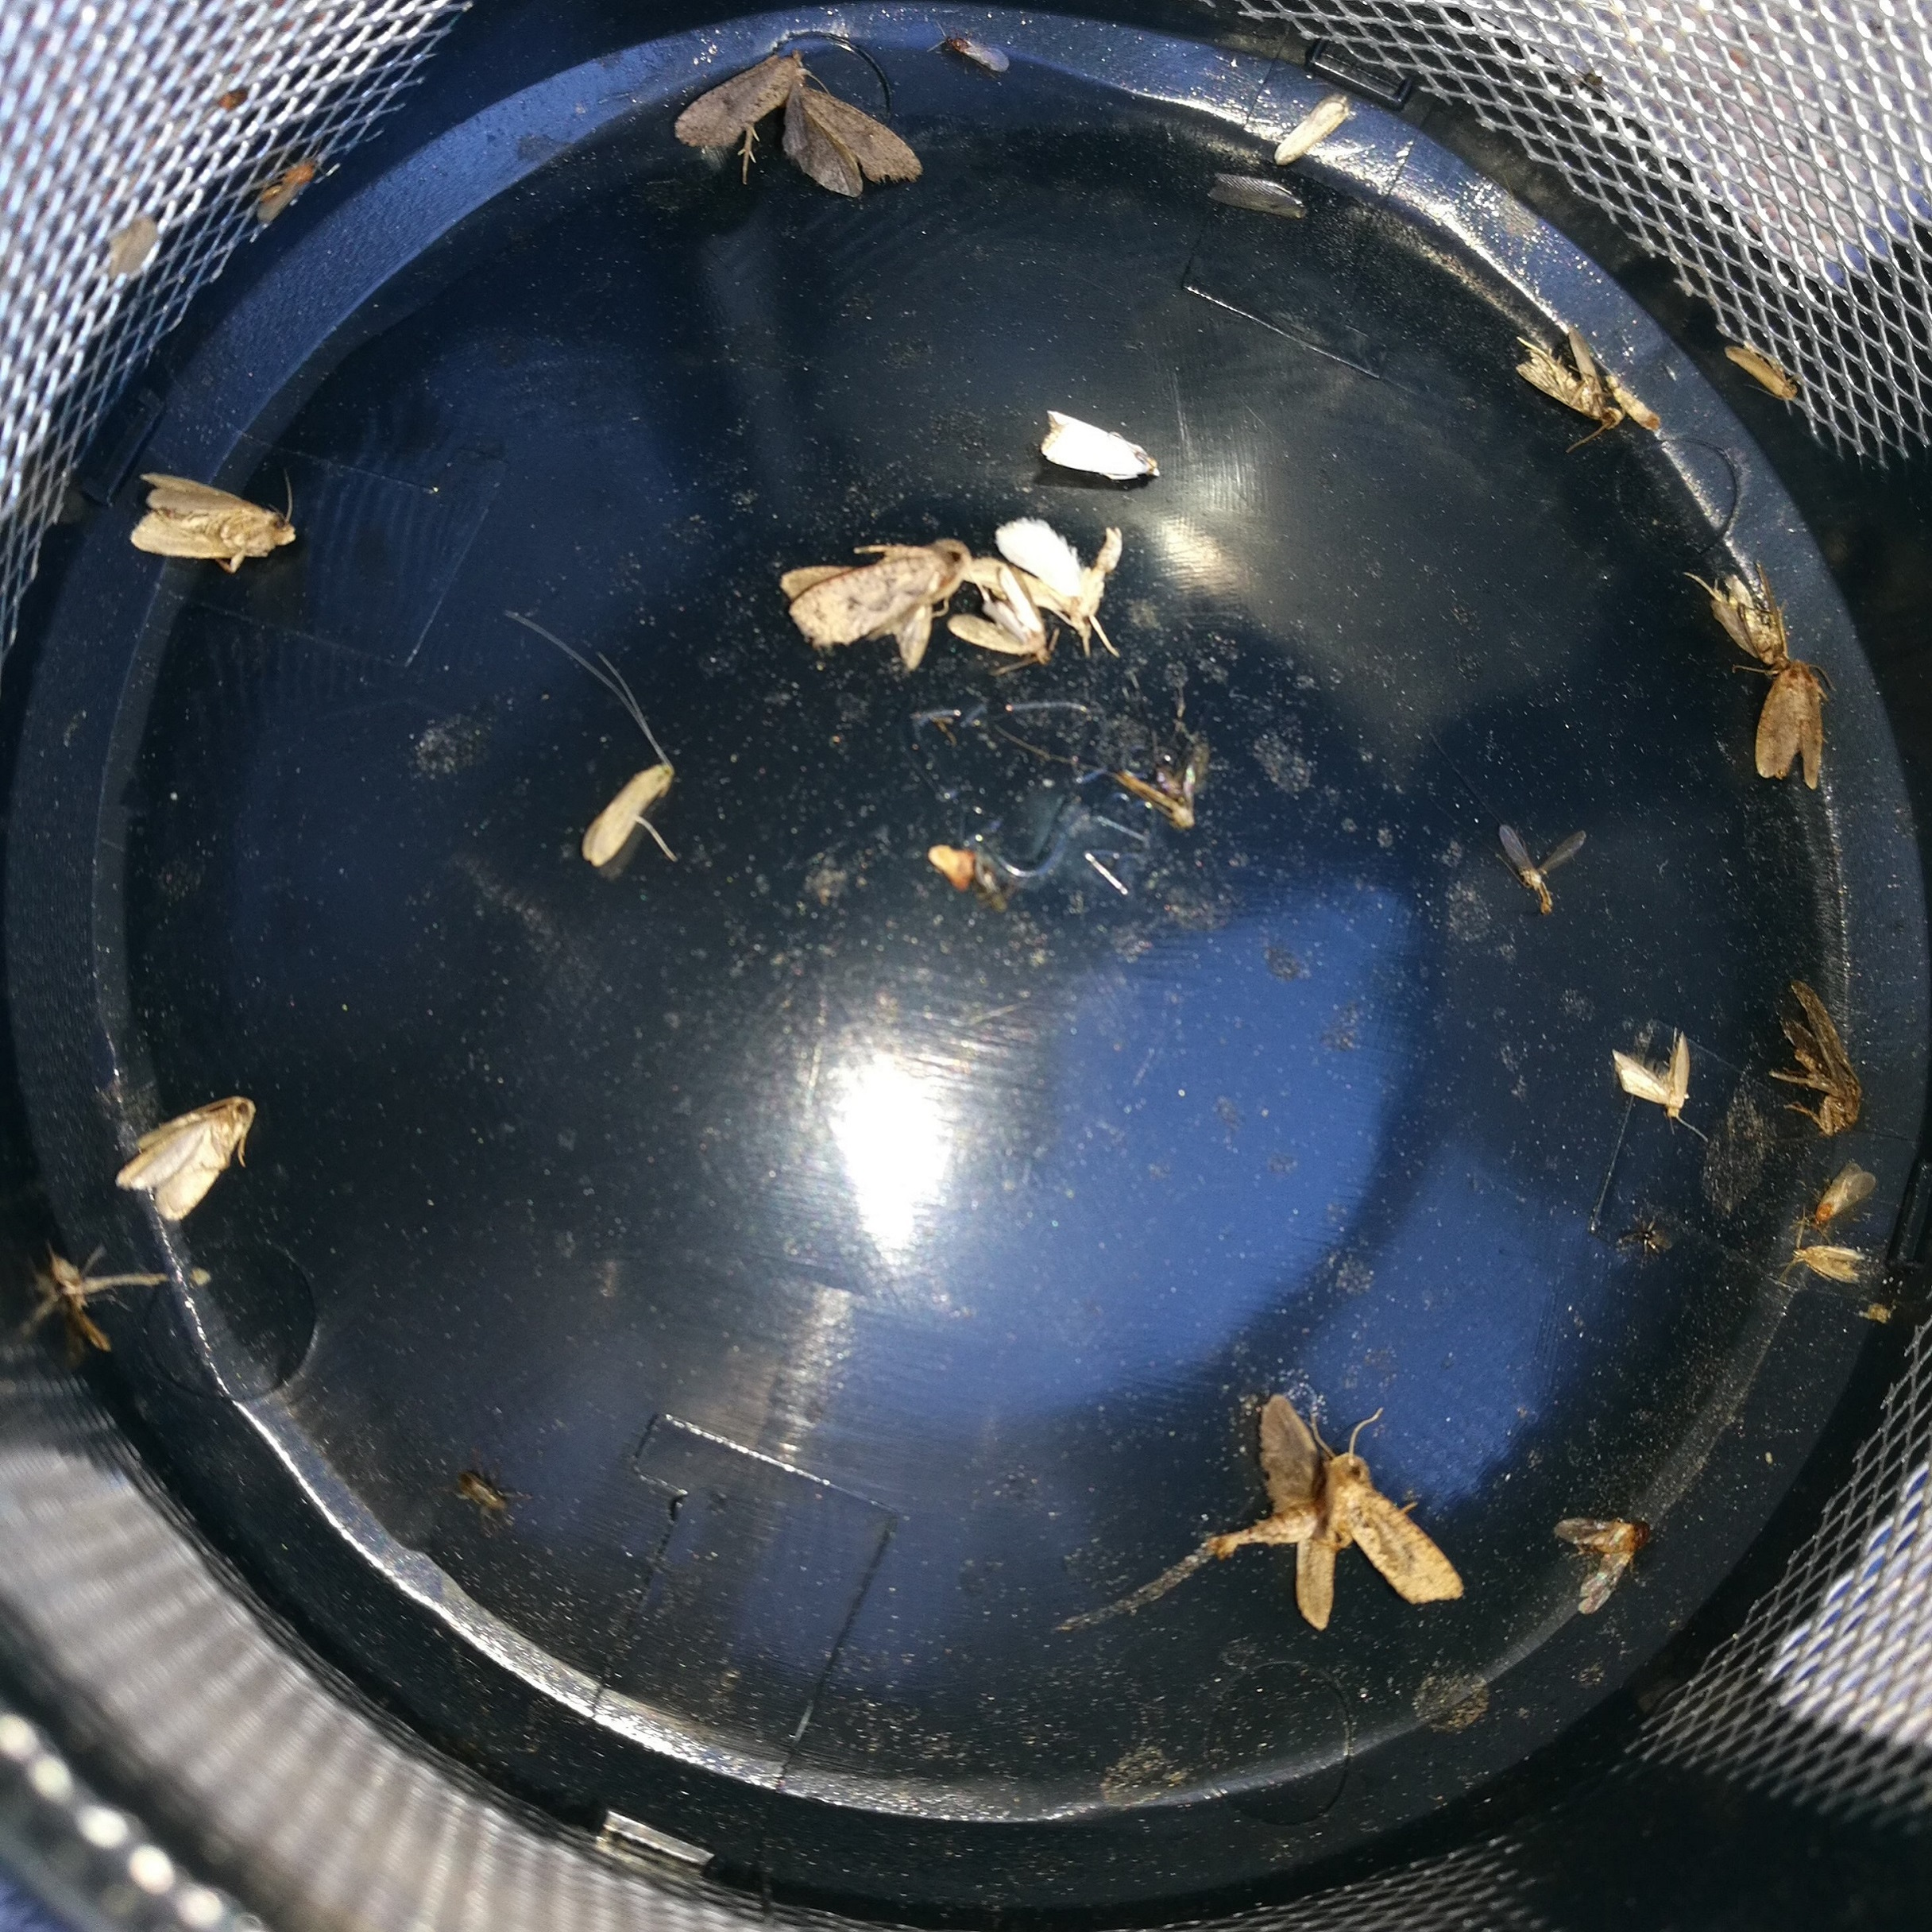mosquito: (1557, 1511, 1660, 1614), (1514, 333, 1619, 428), (584, 763, 669, 869), (1040, 409, 1159, 479), (1813, 1159, 1877, 1226), (945, 30, 1016, 74), (1799, 1247, 1863, 1281)
moth: (1221, 1398, 1460, 1631), (780, 538, 971, 642), (113, 1093, 258, 1223), (127, 471, 299, 559), (948, 564, 1053, 665), (1757, 662, 1824, 793)
